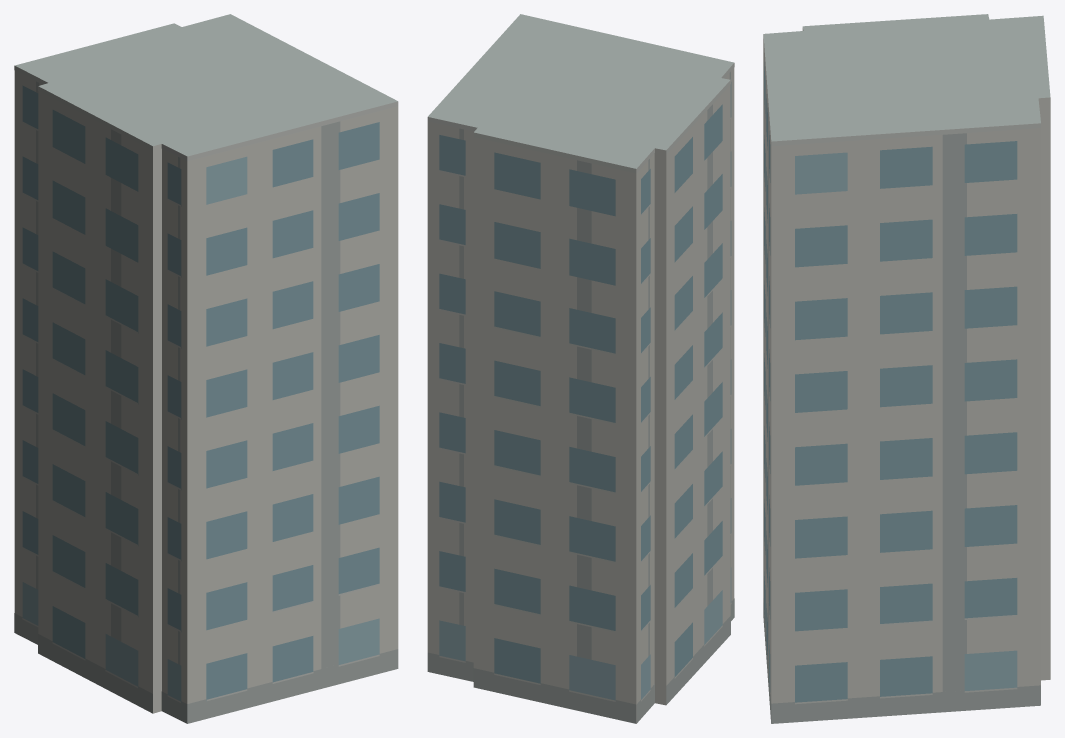
The model's file is survey-upis-32899313.glb.
3 renders of one model, left to right at view 1: azimuth 30°, elevation 25°; view 2: azimuth 150°, elevation 25°; view 3: azimuth 270°, elevation 25°, orthographic. The views are drawn at different scales.
Parts seen in each view (by area): view 1: survey-upis-32899313.tmp; view 2: survey-upis-32899313.tmp; view 3: survey-upis-32899313.tmp.
Boxes of the visible parts, bbox=[...] form: survey-upis-32899313.tmp: bbox=[14, 14, 398, 723]; survey-upis-32899313.tmp: bbox=[427, 14, 734, 723]; survey-upis-32899313.tmp: bbox=[763, 14, 1050, 723].
Size of the model in its own units: 13.63 by 29 by 12.97.
